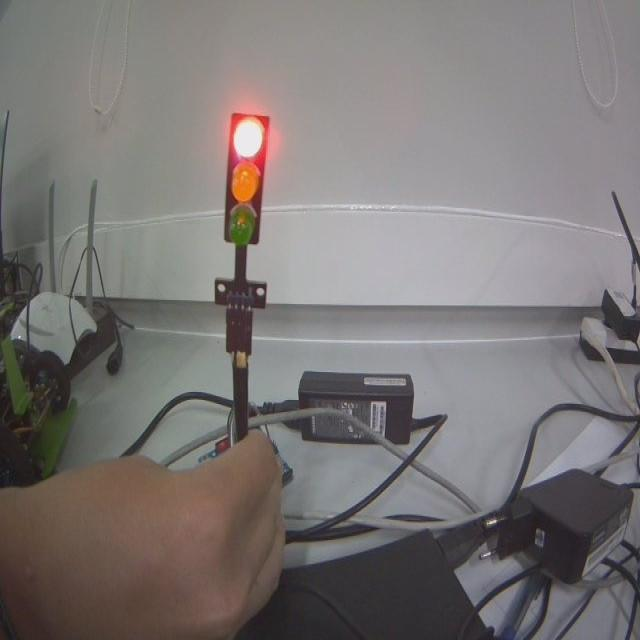Lampu Merah: (223, 111, 271, 248)
